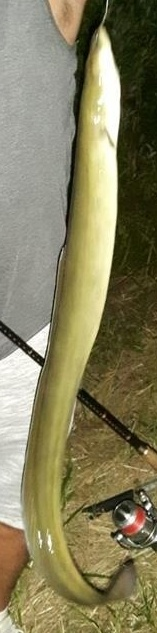Anguilla anguilla: (20, 20, 137, 613)
